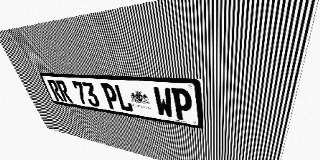3: (81, 82, 101, 107)
7: (71, 81, 90, 105)
L: (113, 84, 134, 112)
P: (171, 88, 193, 121), (100, 83, 120, 110)
R: (55, 80, 73, 103), (47, 79, 64, 102)
W: (152, 86, 174, 118)
